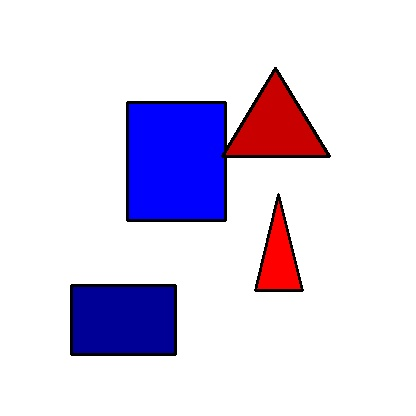rectangle: (127, 102, 225, 220), (71, 285, 175, 354)
triangle: (222, 68, 329, 156), (255, 194, 302, 290)
